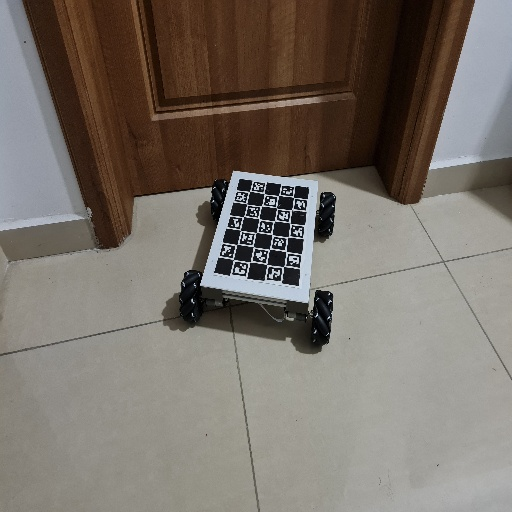Omniwheel: (178, 169, 338, 348)
